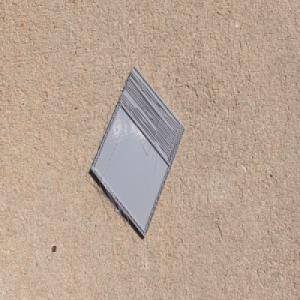PlasticPart: (89, 65, 187, 239)
